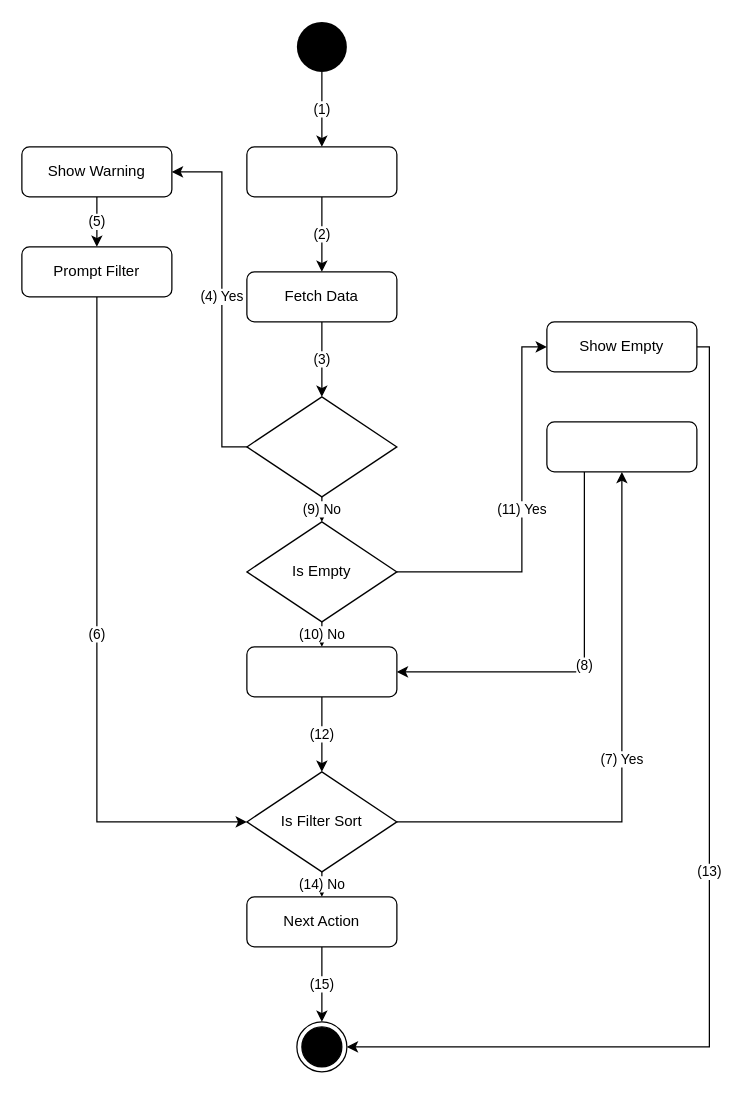
Some shapes in this 744 by 1094 pixel diagram are drawn without their labels. Here are the shapes that lost their labels. From the top down, the centre of each, then its label:
At (x=321, y=171): "Navigate Menu".
At (x=321, y=446): "Is Timeout".
At (x=621, y=446): "Apply Filter".
At (x=321, y=671): "Display List".
